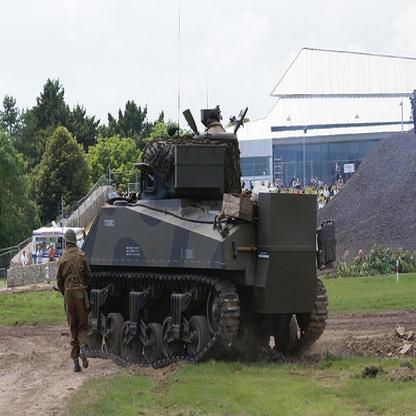Tank: (72, 103, 339, 380)
